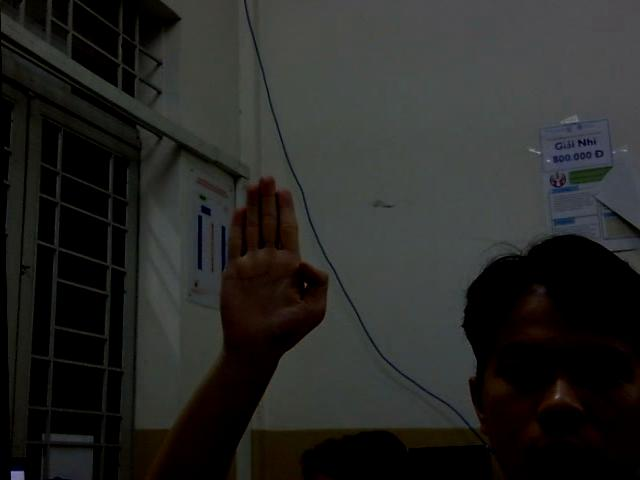B: (205, 163, 333, 357)
